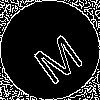M: (25, 25, 86, 87)
